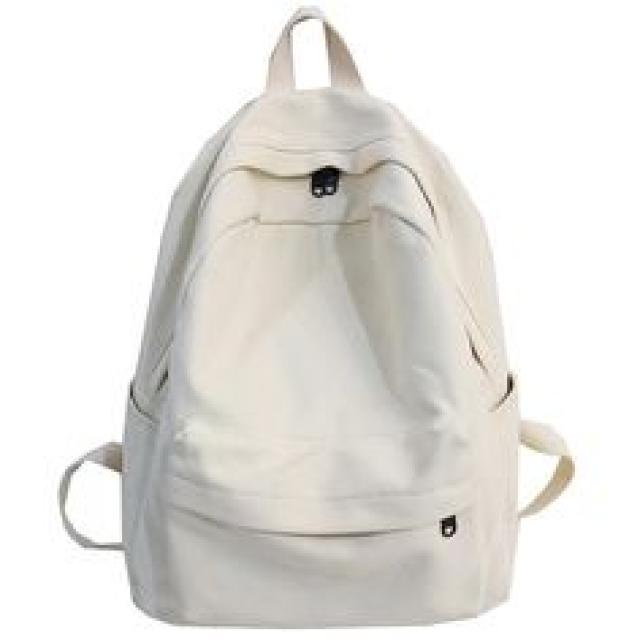backpack: (58, 4, 576, 627)
